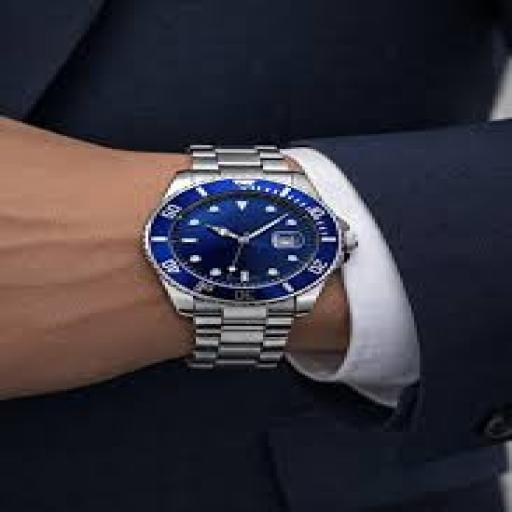KolSaati: (128, 120, 367, 388)
